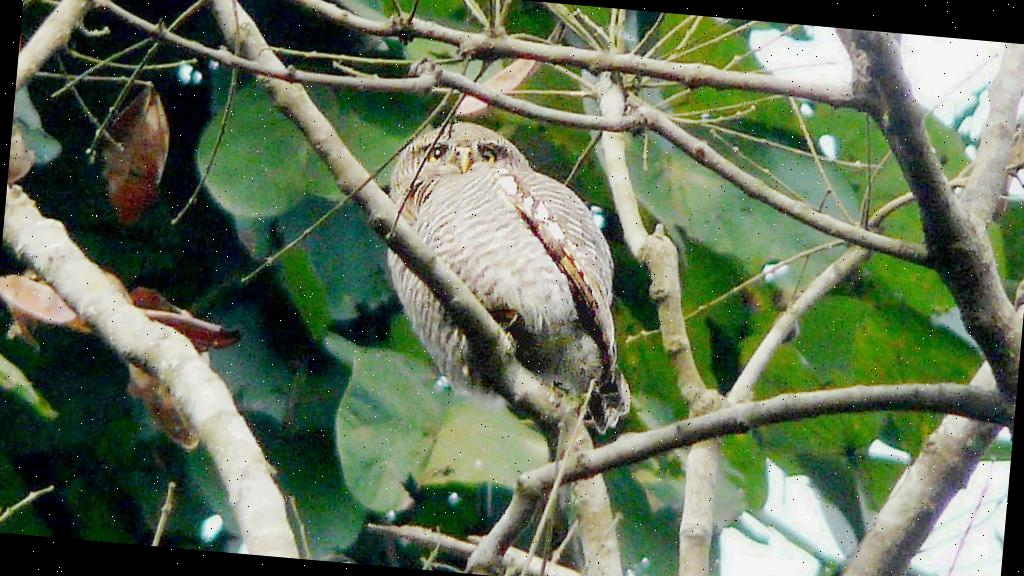Owl: (359, 120, 655, 482)
